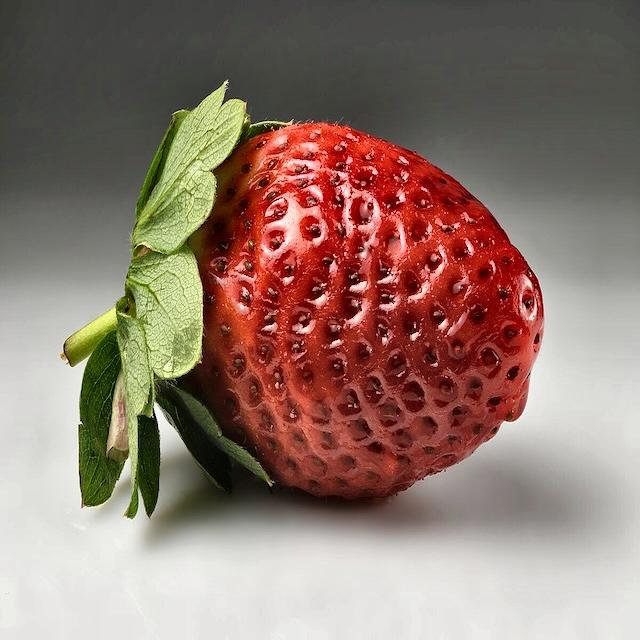strawberry: (64, 84, 542, 516)
